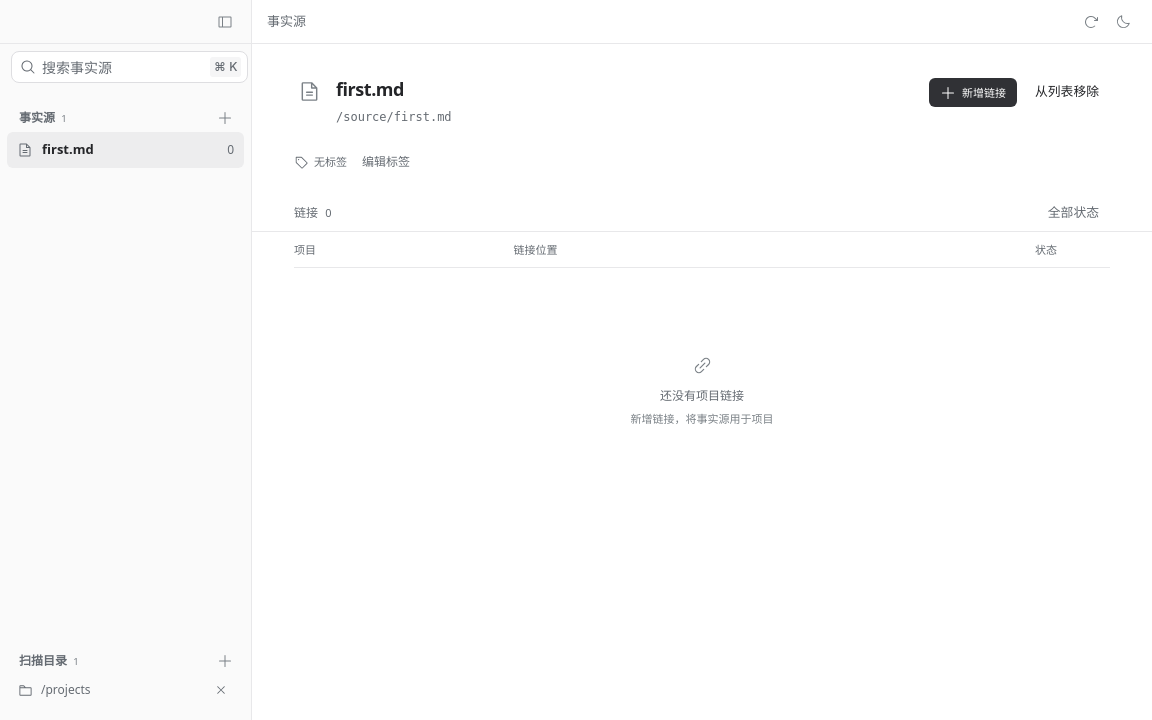
opens the canonical source returned after adding an alias path
Check: the heading "first.md" is shown, box [336,77,404,101]
Click the button named "添加事实源".
click(225, 118)  # box [213,106,237,130]
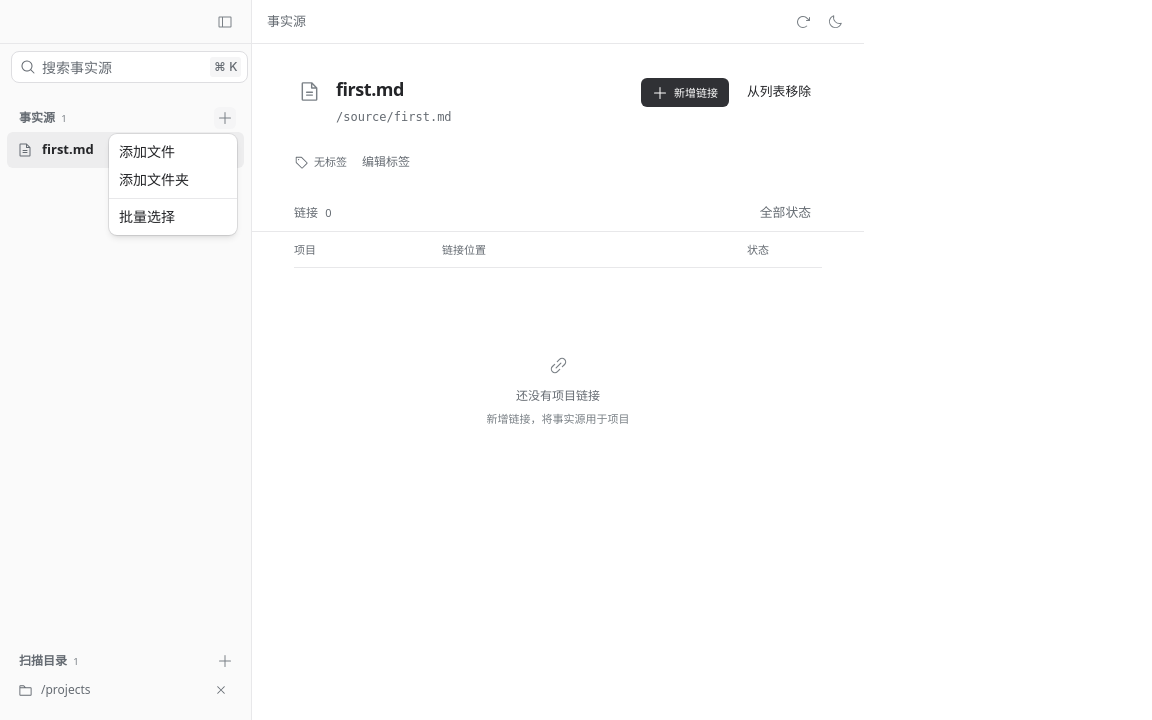
Click the menu item "添加文件".
click(147, 152)  # box [119,142,175,161]
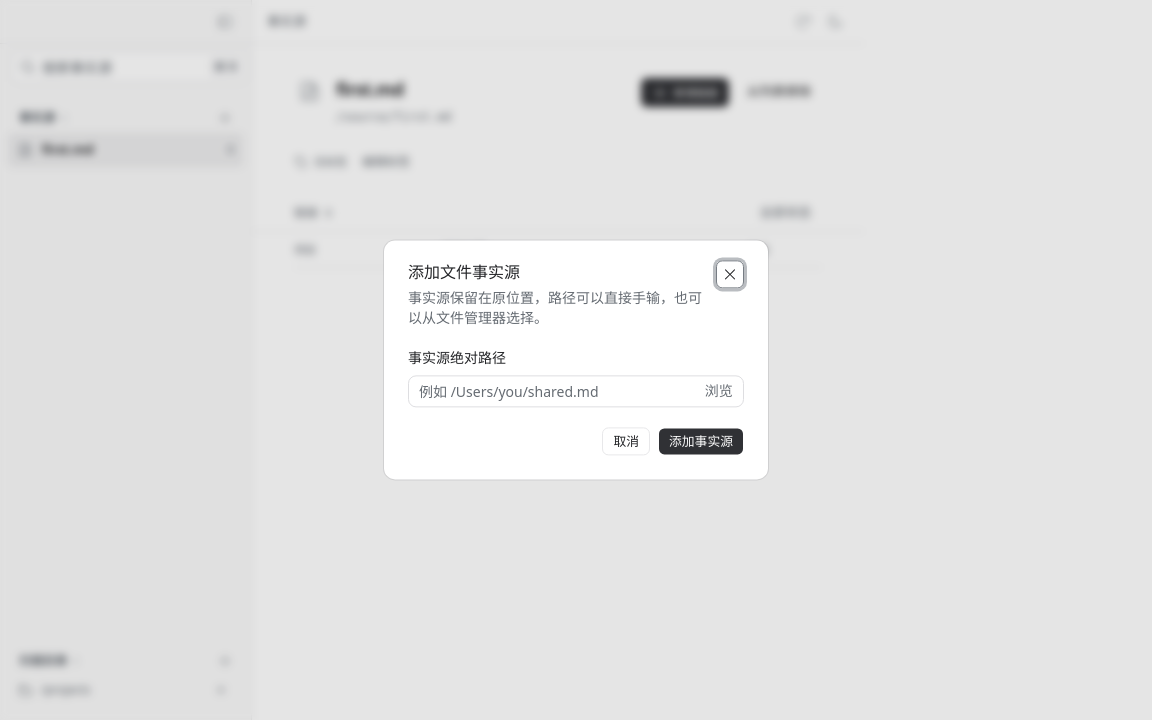
Type "C:\\workspace\\nested\\..\\shared.md" into the field labelled "事实源绝对路径".
click(553, 392); type("C:\\workspace\\nested\\..\\shared.md")  # box [409,376,698,408]
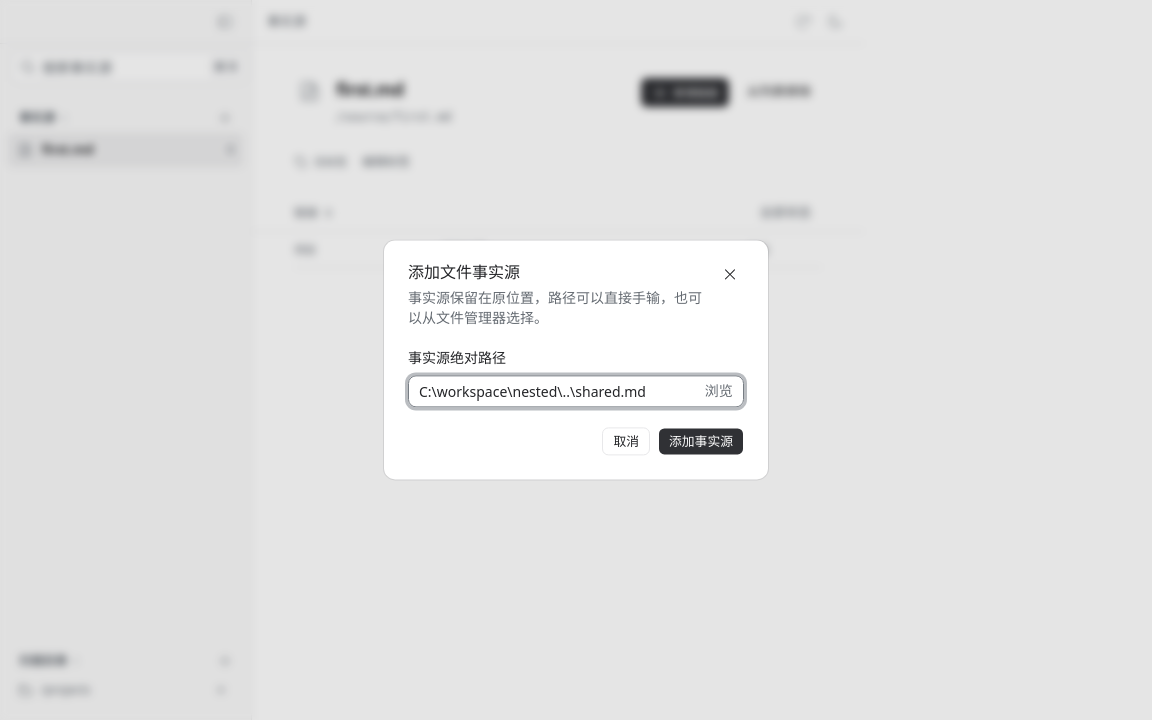
Click the button "添加事实源".
click(701, 442)  # box [658,428,744,456]
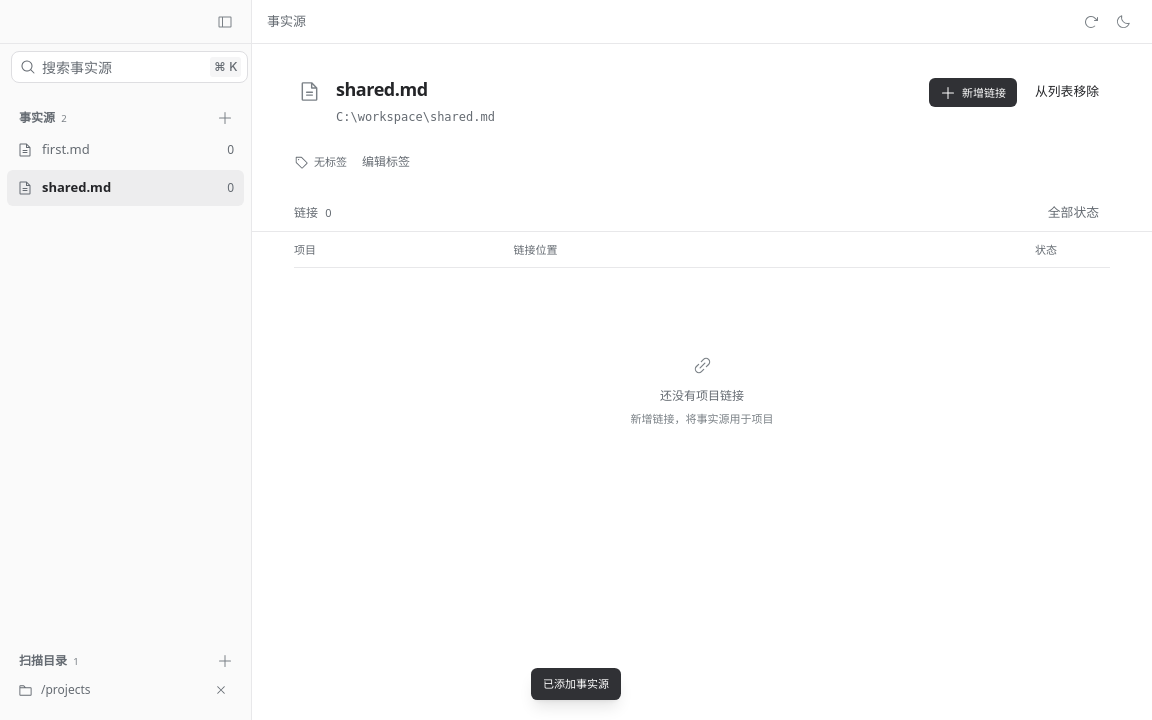
Check: the heading "shared.md" is shown, box [336,77,428,101]
